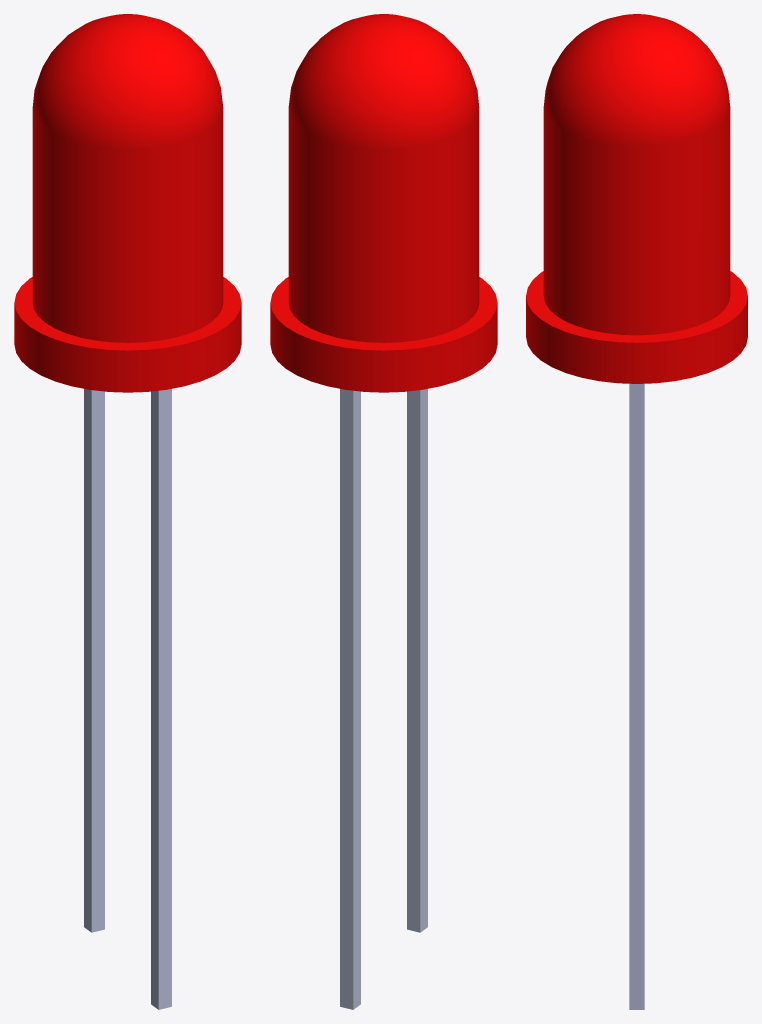
File: LED-ROUGE 1.obj
3 views of the same model, side by side, from view 1: azimuth 30°, elevation 25°; view 2: azimuth 150°, elevation 25°; view 3: azimuth 270°, elevation 25° (orthographic). The views are drawn at different scales.
Visible parts, largest first — view 1: LED-ROUGE, LED-ROUGE-1; view 2: LED-ROUGE, LED-ROUGE-1; view 3: LED-ROUGE, LED-ROUGE-1.
Part boxes in pixels (<box>): LED-ROUGE: <box>14,14,241,392</box>; LED-ROUGE-1: <box>84,389,171,1009</box>; LED-ROUGE: <box>270,14,497,392</box>; LED-ROUGE-1: <box>340,389,427,1009</box>; LED-ROUGE: <box>526,14,747,383</box>; LED-ROUGE-1: <box>629,383,644,1009</box>.
Bounding box in the file's own units: 5.59 × 26.9 × 5.59.
